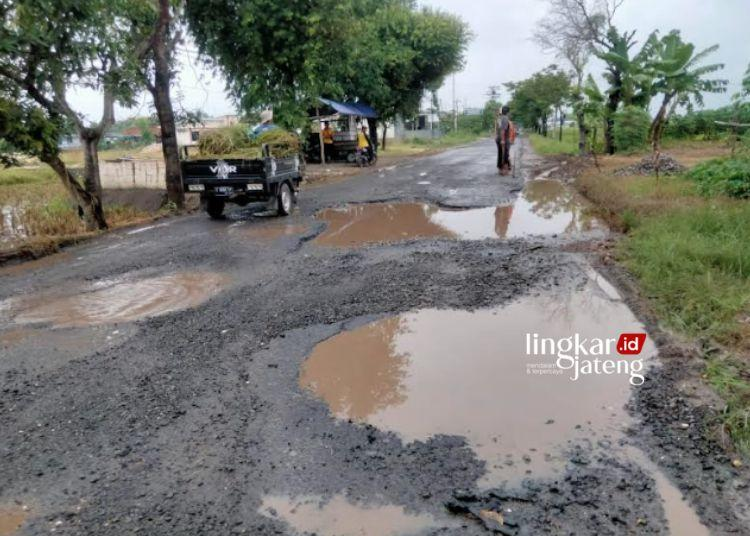Pothole: (247, 277, 735, 535), (1, 244, 247, 383), (287, 167, 629, 259)
